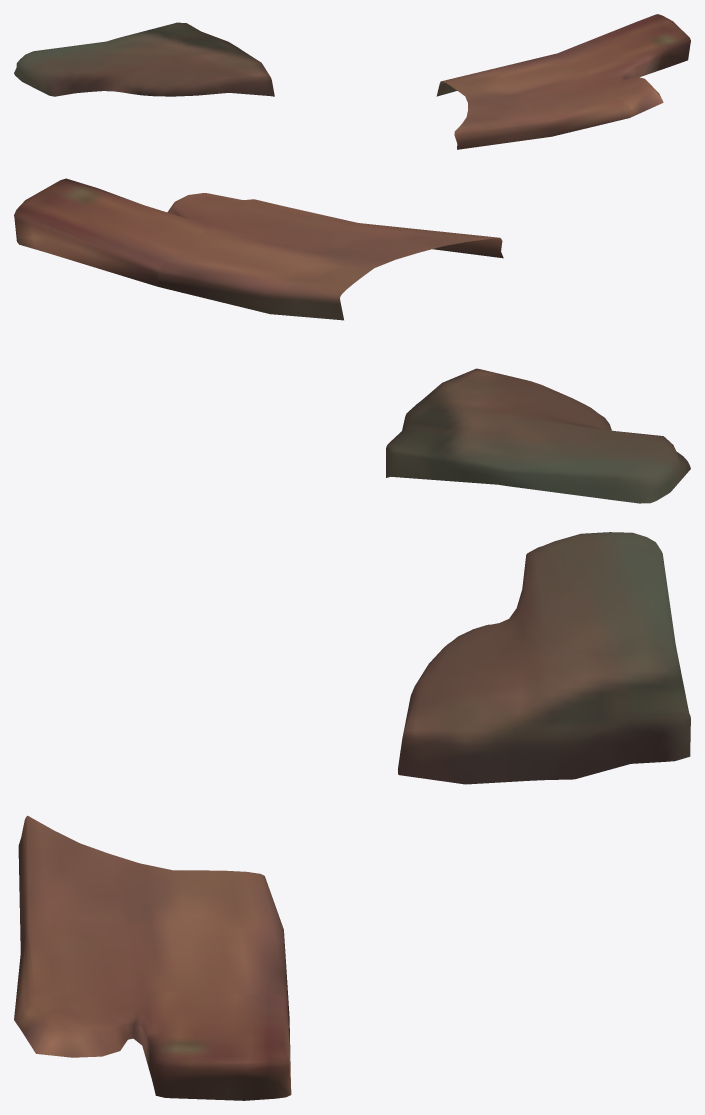
File: Beach_Details_6.glb
The picture shows the model from 3 angles, top to bottom: view 1: azimuth 30°, elevation 25°; view 2: azimuth 150°, elevation 25°; view 3: azimuth 270°, elevation 25°; orthographic projection. The views are drawn at different scales.
Parts seen in each view (by area): view 1: Object_2.027; view 2: Object_2.027; view 3: Object_2.027.
Part boxes in pixels (<box>): Object_2.027: <box>14,14,690,149</box>; Object_2.027: <box>14,178,690,503</box>; Object_2.027: <box>14,532,690,1100</box>.
Size of the model in its own units: 13.5 by 1.11 by 7.65.
1 material, 1 textured.
